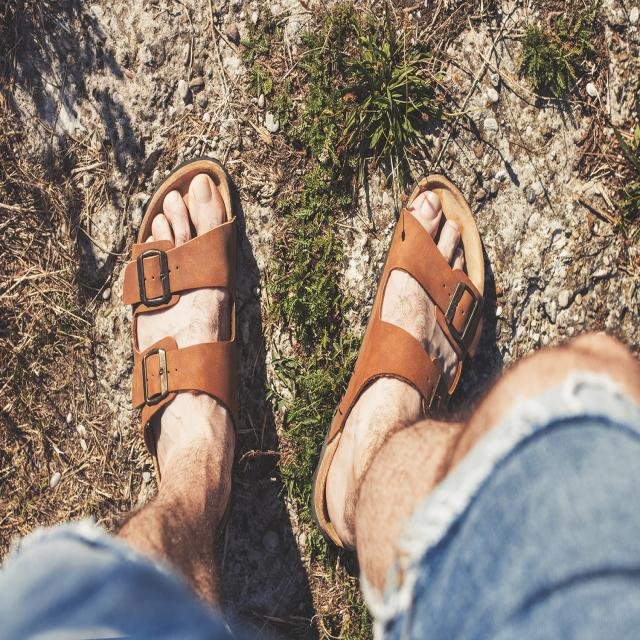Sandals: (316, 160, 485, 557), (114, 154, 252, 512)
